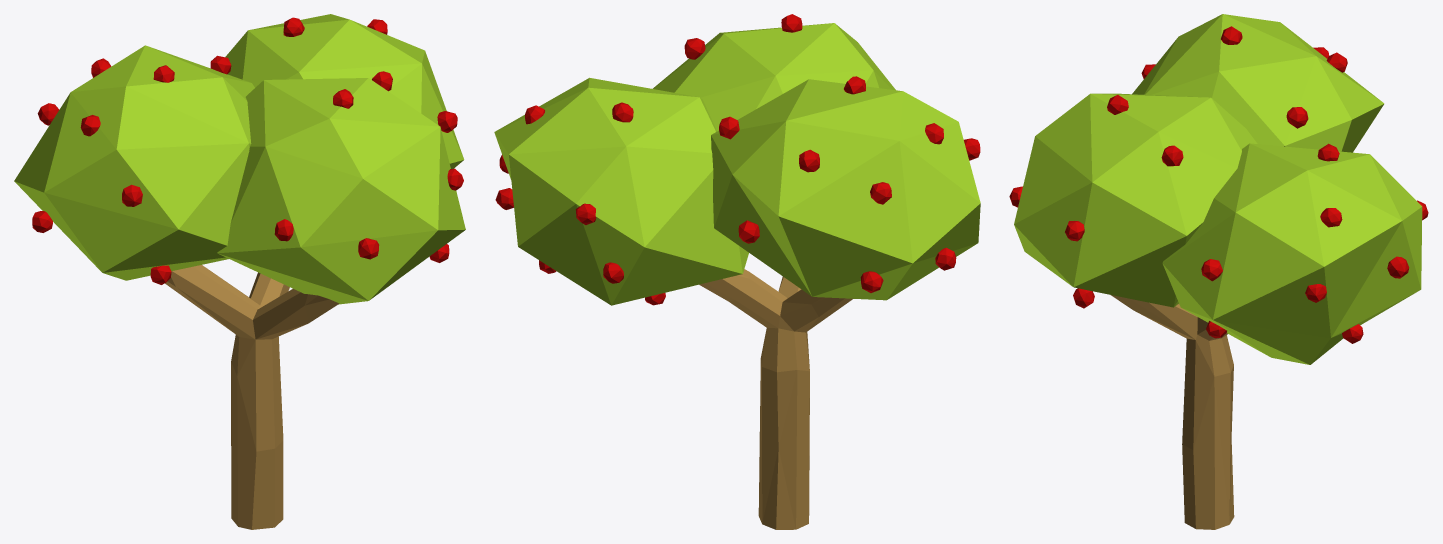
The model's file is TreeApple.fbx.
3 renders of one model, left to right at view 1: azimuth 30°, elevation 25°; view 2: azimuth 150°, elevation 25°; view 3: azimuth 270°, elevation 25°, orthographic. The views are drawn at different scales.
Parts seen in each view (by area): view 1: TreeApple; view 2: TreeApple; view 3: TreeApple.
Boxes of the visible parts, bbox=[...] form: TreeApple: bbox=[14, 14, 465, 529]; TreeApple: bbox=[494, 14, 980, 529]; TreeApple: bbox=[1009, 14, 1428, 529].
Size of the model in its own units: 3.74 by 3.87 by 3.23.
